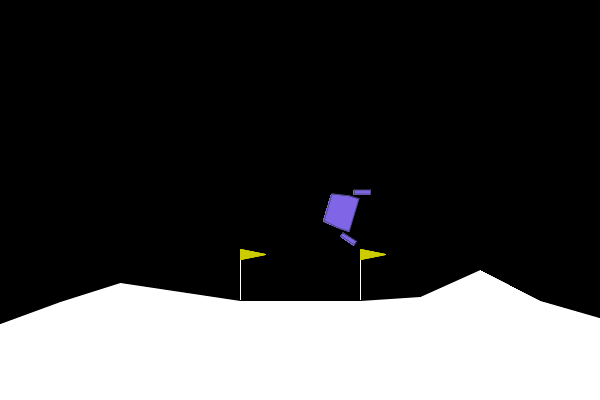lander: (317, 178, 372, 247)
